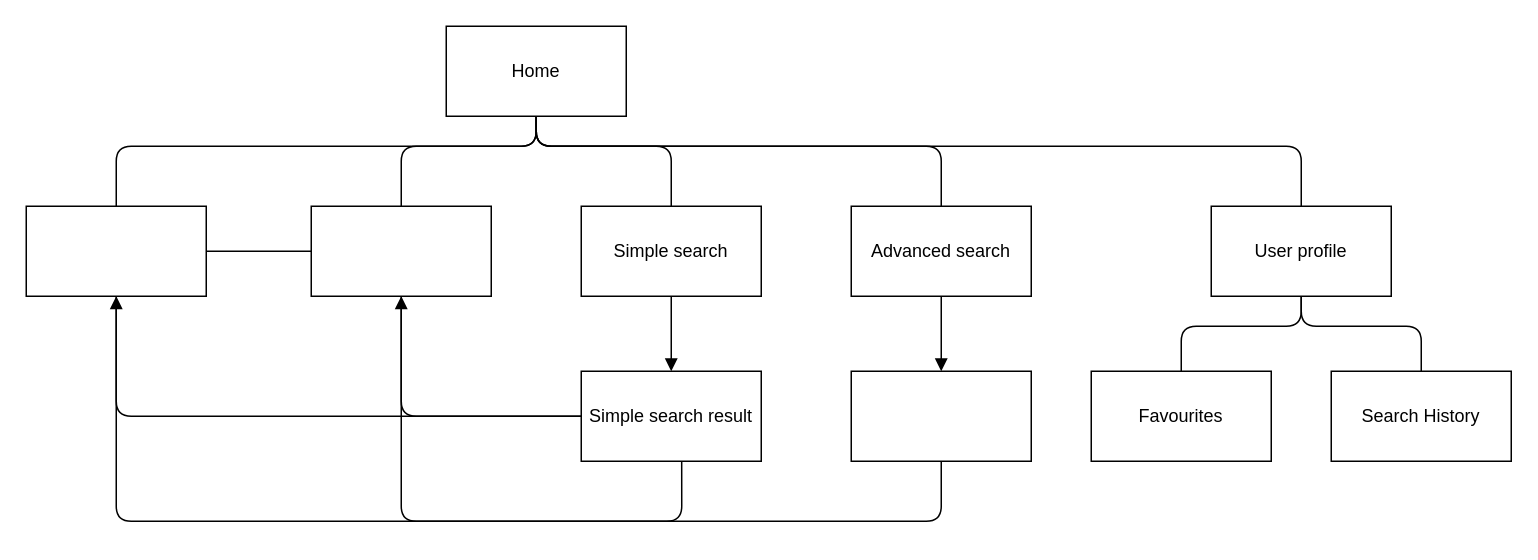
Some shapes in this 1538 by 560 pixel diagram are drawn without their labels. Here are the shapes that lost their labels. From the top down, the box of each, then its label:
(25, 205, 206, 296): Movie detail
(310, 205, 491, 296): Person detail
(850, 370, 1031, 461): Advanced search result
